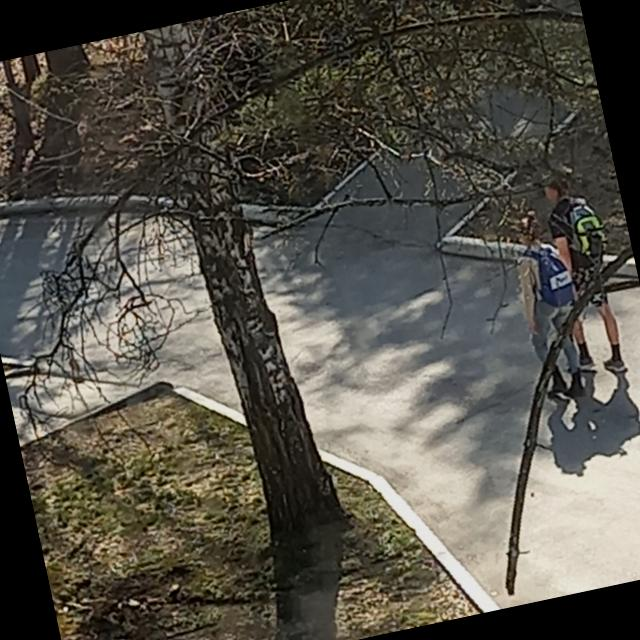person: (536, 167, 634, 380), (502, 204, 598, 406)
